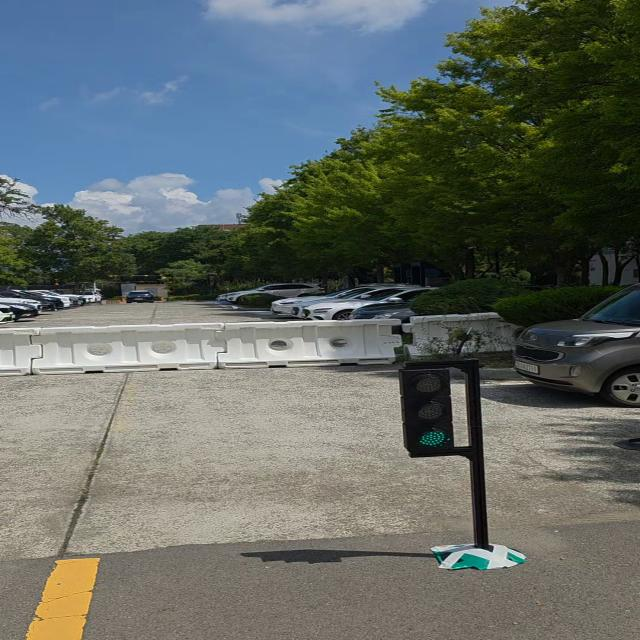green: (400, 365, 458, 457)
